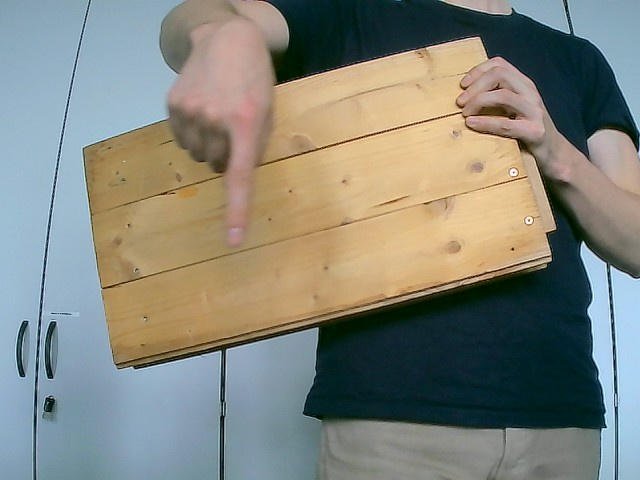down: (164, 15, 278, 248)
no_gesture: (455, 52, 554, 165)
